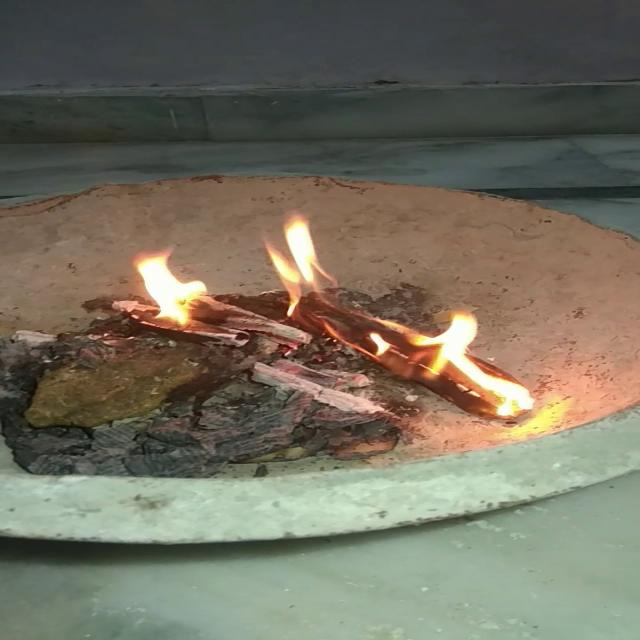fire: (124, 208, 347, 334), (358, 302, 542, 420)
